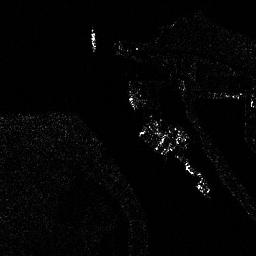ship: (87, 27, 98, 53)
